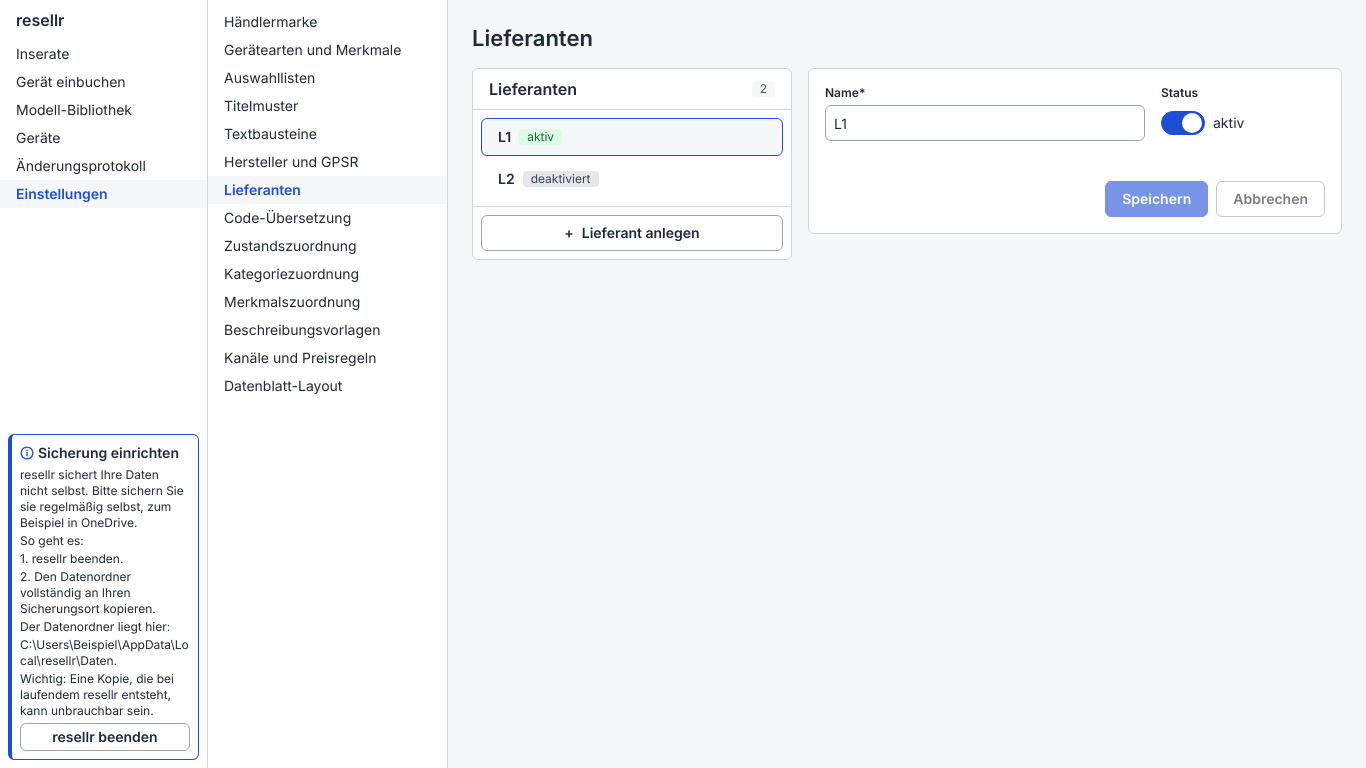
Scenario: UI-032 suppliers (CU-099) › UI-032.default DER-36-08 offers no deletion, also not for a deactivated supplier
Check: the button "L1 aktiv" is shown, box 481,118 -> 783,156
Check: the field labelled "Name*" holds "L1", box 825,105 -> 1145,141
Click the button "L2 deaktiviert" at (561, 179), box 481,160 -> 783,198
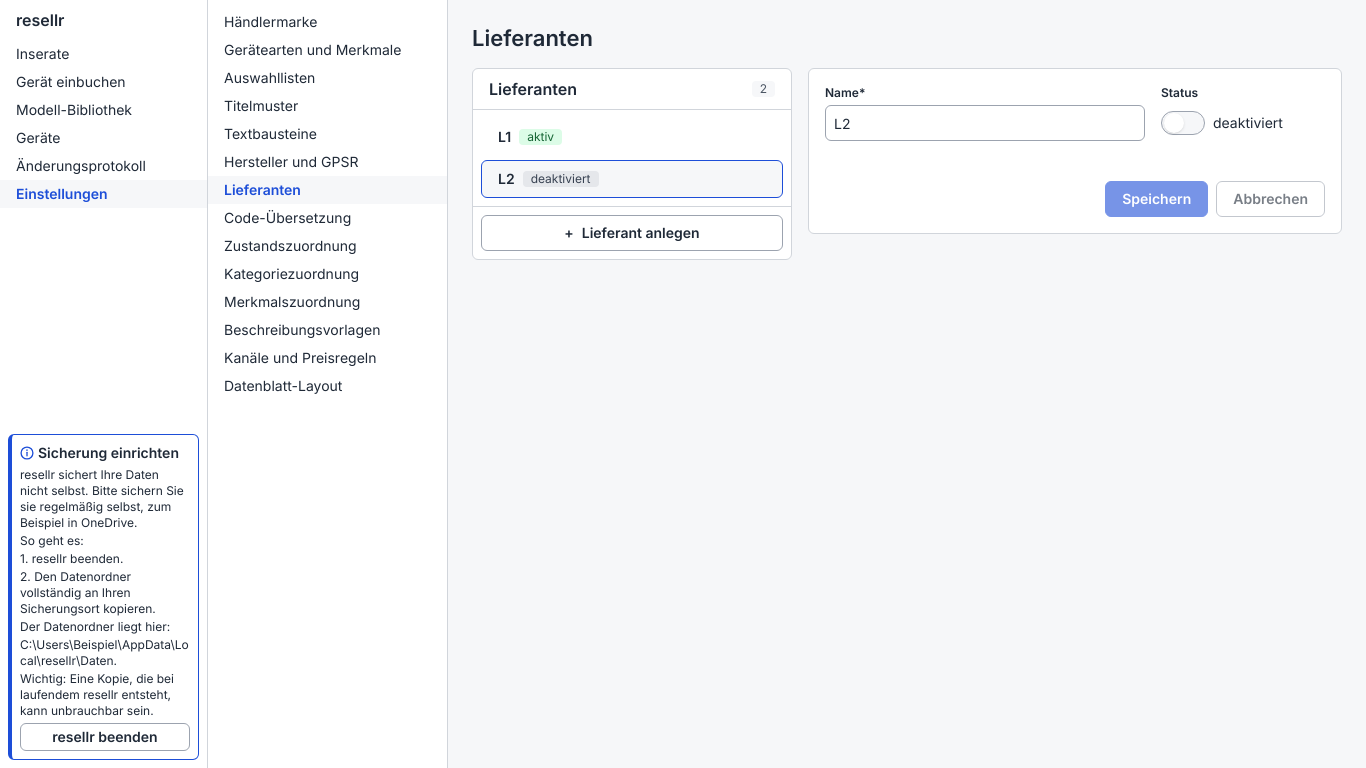
Check: the field labelled "Name*" holds "L2", box 825,105 -> 1145,141
